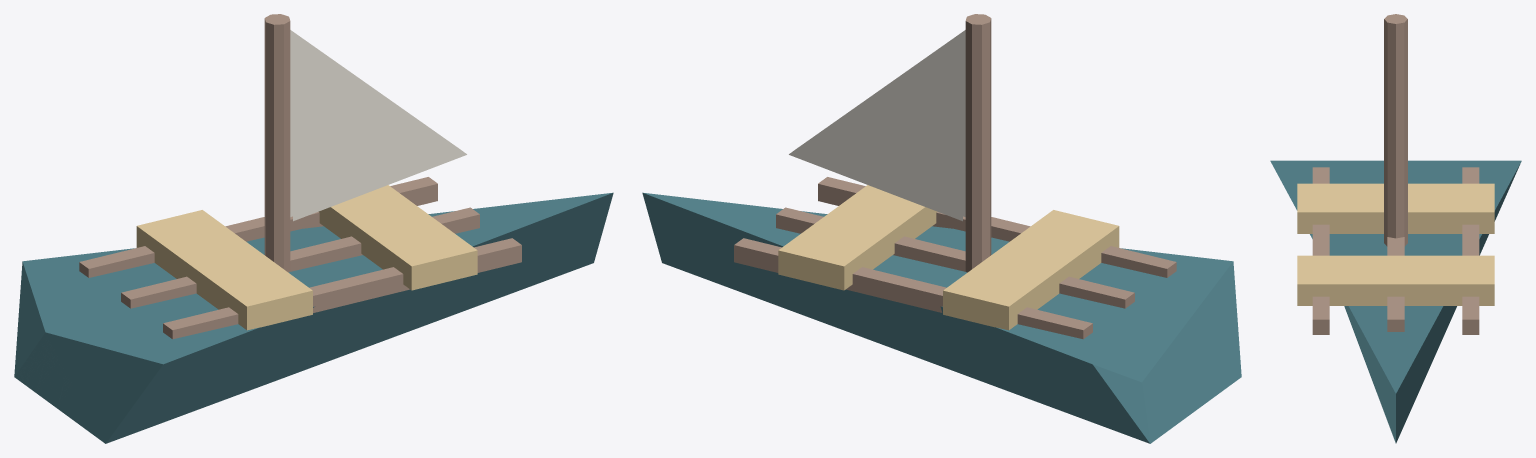
File: boat.glb
3 views of the same model, side by side, from view 1: azimuth 30°, elevation 25°; view 2: azimuth 150°, elevation 25°; view 3: azimuth 270°, elevation 25° (orthographic). The views are drawn at different scales.
Parts seen in each view (by area): view 1: boat; view 2: boat; view 3: boat.
Part boxes in pixels (box(x1,y1,x2,y2)): boat: box(14, 14, 613, 443); boat: box(642, 14, 1241, 443); boat: box(1270, 14, 1521, 443).
Size of the model in its own units: 1.68 by 0.98 by 0.74.
